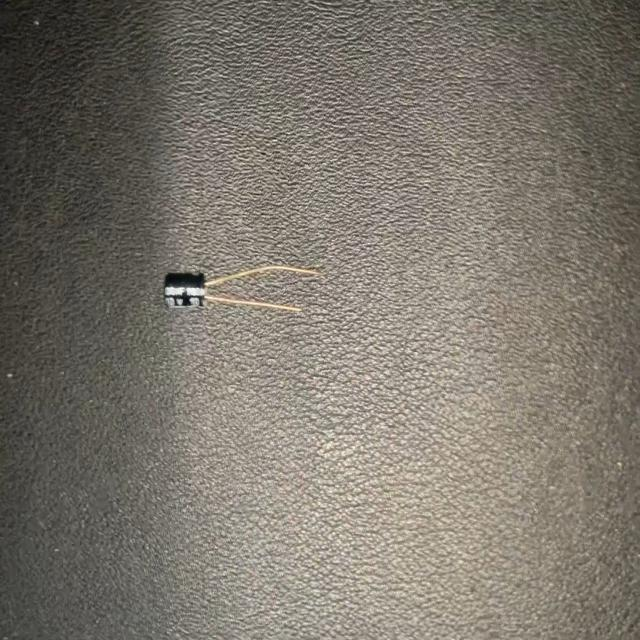capacitor: (164, 266, 318, 320)
